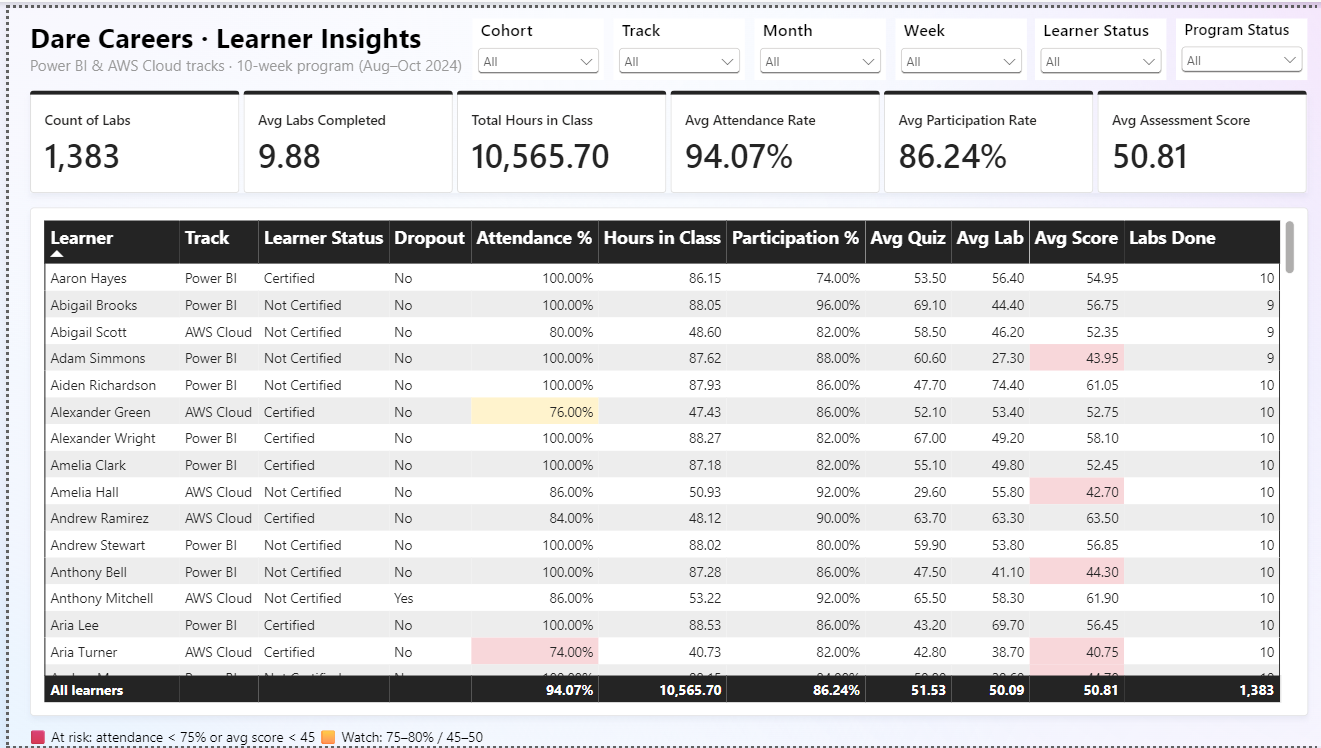

Layout of this report page (visuals, bound fields, positions):
{"tool":"powerbi","page":{"name":"Learner Insights","canvas":[1280,720],"ordinal":1},"visuals":[{"type":"textbox","box":[20,10,431.7,60],"z":0},{"type":"slicer","fields":{"Values":["Learners.Cohort"]},"box":[452,10,128,60],"z":1000},{"type":"slicer","fields":{"Values":["Learners.Track"]},"box":[589,10.6,128,60],"z":2000},{"type":"slicer","title":"Month","fields":{"Values":["Date.Month Year"]},"box":[726,10,128,60],"z":3000},{"type":"slicer","title":"Learner Status","fields":{"Values":["Weeks.Week Label"]},"box":[863,10.4,128,60],"z":4000},{"type":"tableEx","fields":{"Values":["Learners.Name","Learners.Track","Learners.Certification Status","Learners.Dropout","_Measures.Attendance Rate","_Measures.Total Hours in Class","_Measures.Participation Rate","_Measures.Avg Quiz Score","_Measures.Avg Lab Score","_Measures.Avg Assessment Score","_Measures.Labs Completed"]},"box":[20,195,1245,495],"z":5000},{"type":"cardVisual","fields":{"Data":["_Measures.Labs Completed","_Measures.Avg Labs per Learner","_Measures.Total Hours in Class","_Measures.Attendance Rate","_Measures.Participation Rate","_Measures.Avg Assessment Score"]},"box":[20,80,1245,100],"z":6000},{"type":"slicer","title":"Learner Status","fields":{"Values":["Learners.Certification Status"]},"box":[1000,10.6,128,60],"z":7000},{"type":"slicer","title":"Learner Status","fields":{"Values":["Learners.Program Status"]},"box":[1137,10.6,128,60],"z":8000},{"type":"textbox","box":[19,700,672.3,20.5],"z":9000}]}

Visuals, with their boxes in screenshot pixels (x1, y1, x2, y2), scaled from the page's 1280x720 canvas onto the 1321x748 screenshot:
textbox: detection(21, 10, 466, 73)
slicer - Learners.Cohort: detection(466, 10, 599, 73)
slicer - Learners.Track: detection(608, 11, 740, 73)
"Month" slicer: detection(749, 10, 881, 73)
"Learner Status" slicer: detection(891, 11, 1023, 73)
tableEx - Learners.Name x Learners.Track: detection(21, 203, 1306, 717)
cardVisual - _Measures.Labs Completed x _Measures.Avg Labs per Learner: detection(21, 83, 1306, 187)
"Learner Status" slicer: detection(1032, 11, 1164, 73)
"Learner Status" slicer: detection(1173, 11, 1306, 73)
textbox: detection(20, 727, 713, 747)
